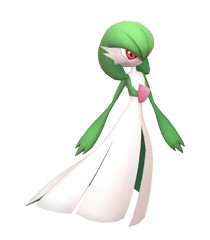gardevoir: (20, 20, 185, 230)
